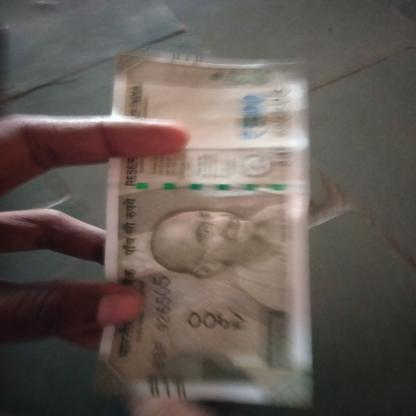New500Front: (112, 58, 307, 399)
